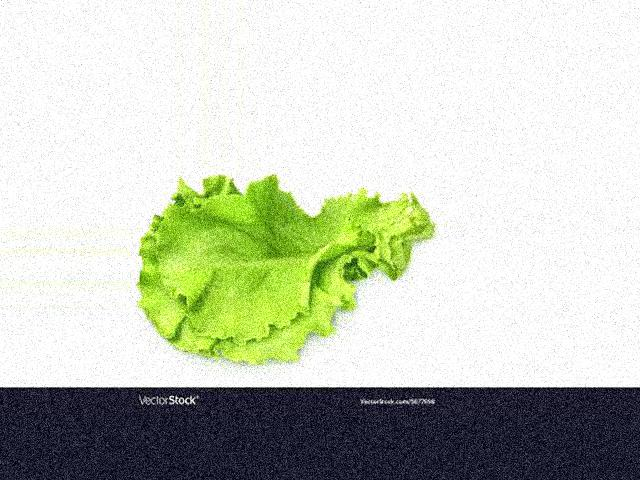lettuce: (320, 188, 420, 427)
